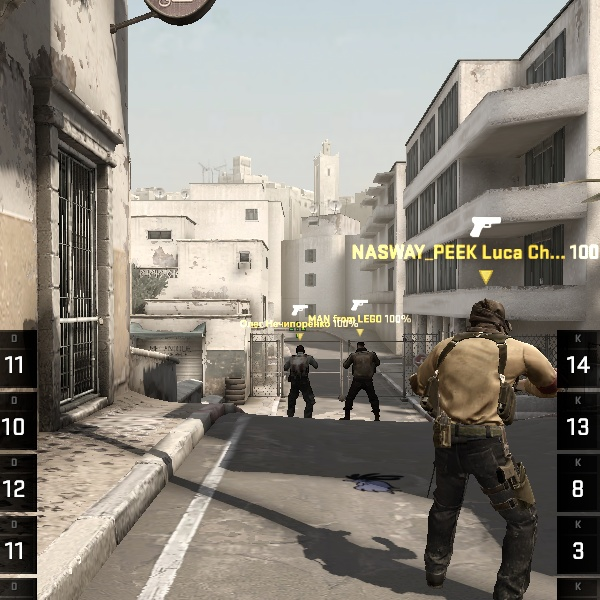t_body: (414, 302, 561, 596), (343, 341, 381, 423), (281, 343, 321, 418)
t_head: (469, 298, 510, 339), (296, 344, 305, 357), (357, 341, 365, 353)
